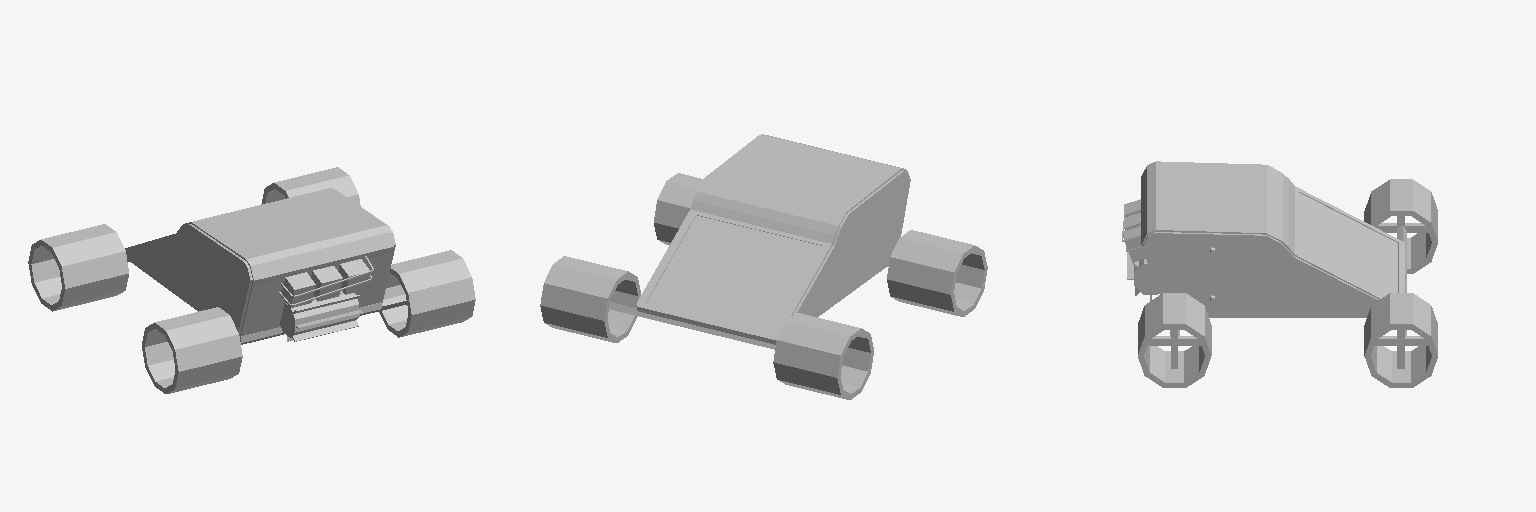
Rendered from venus_rover.obj.
3 renders of one model, left to right at view 1: azimuth 30°, elevation 25°; view 2: azimuth 150°, elevation 25°; view 3: azimuth 270°, elevation 25°, orthographic.
Visible parts, largest first — view 1: Frame003, LeftWall, RightWheel001, RightWheel, LeftWheel, LeftWheel001, RTG, Frame2, Container3, Container, Container2; view 2: FrontWindow, Frame003, LeftWall, RightWheel, RightWheel001, LeftWheel001, Frame2, LeftWheel, BraceFrontWheelRight005, Floor; view 3: RightWall, Frame003, FrontWindow, LeftWheel, LeftWheel001, RightWheel001, Frame2, door, RTG.
Boxes of the visible parts, x1=… form: Frame003: x1=197, y1=188, x2=393, y2=334; LeftWall: x1=126, y1=224, x2=252, y2=335; RightWheel001: x1=28, y1=224, x2=128, y2=311; RightWheel: x1=142, y1=307, x2=242, y2=393; LeftWheel: x1=379, y1=250, x2=475, y2=337; LeftWheel001: x1=261, y1=167, x2=360, y2=206; RTG: x1=280, y1=291, x2=359, y2=337; Frame2: x1=125, y1=221, x2=259, y2=339; Container3: x1=282, y1=272, x2=315, y2=307; Container: x1=338, y1=259, x2=369, y2=294; Container2: x1=311, y1=266, x2=342, y2=301; FrontWindow: x1=647, y1=215, x2=823, y2=333; Frame003: x1=637, y1=134, x2=899, y2=339; LeftWall: x1=793, y1=170, x2=910, y2=316; RightWheel: x1=887, y1=230, x2=987, y2=316; RightWheel001: x1=773, y1=313, x2=873, y2=399; LeftWheel001: x1=540, y1=256, x2=640, y2=342; Frame2: x1=698, y1=167, x2=906, y2=340; LeftWheel: x1=654, y1=173, x2=702, y2=245; BraceFrontWheelRight005: x1=609, y1=302, x2=775, y2=349; Floor: x1=637, y1=265, x2=888, y2=344; RightWall: x1=1143, y1=232, x2=1378, y2=314; Frame003: x1=1141, y1=165, x2=1404, y2=299; FrontWindow: x1=1299, y1=193, x2=1397, y2=296; LeftWheel: x1=1138, y1=293, x2=1211, y2=387; LeftWheel001: x1=1364, y1=293, x2=1437, y2=387; RightWheel001: x1=1364, y1=179, x2=1437, y2=273; Frame2: x1=1141, y1=161, x2=1404, y2=250; door: x1=1213, y1=243, x2=1254, y2=302; RTG: x1=1134, y1=259, x2=1158, y2=294.
Bounding box in the file's own units: 10.05 × 3.85 × 9.28.